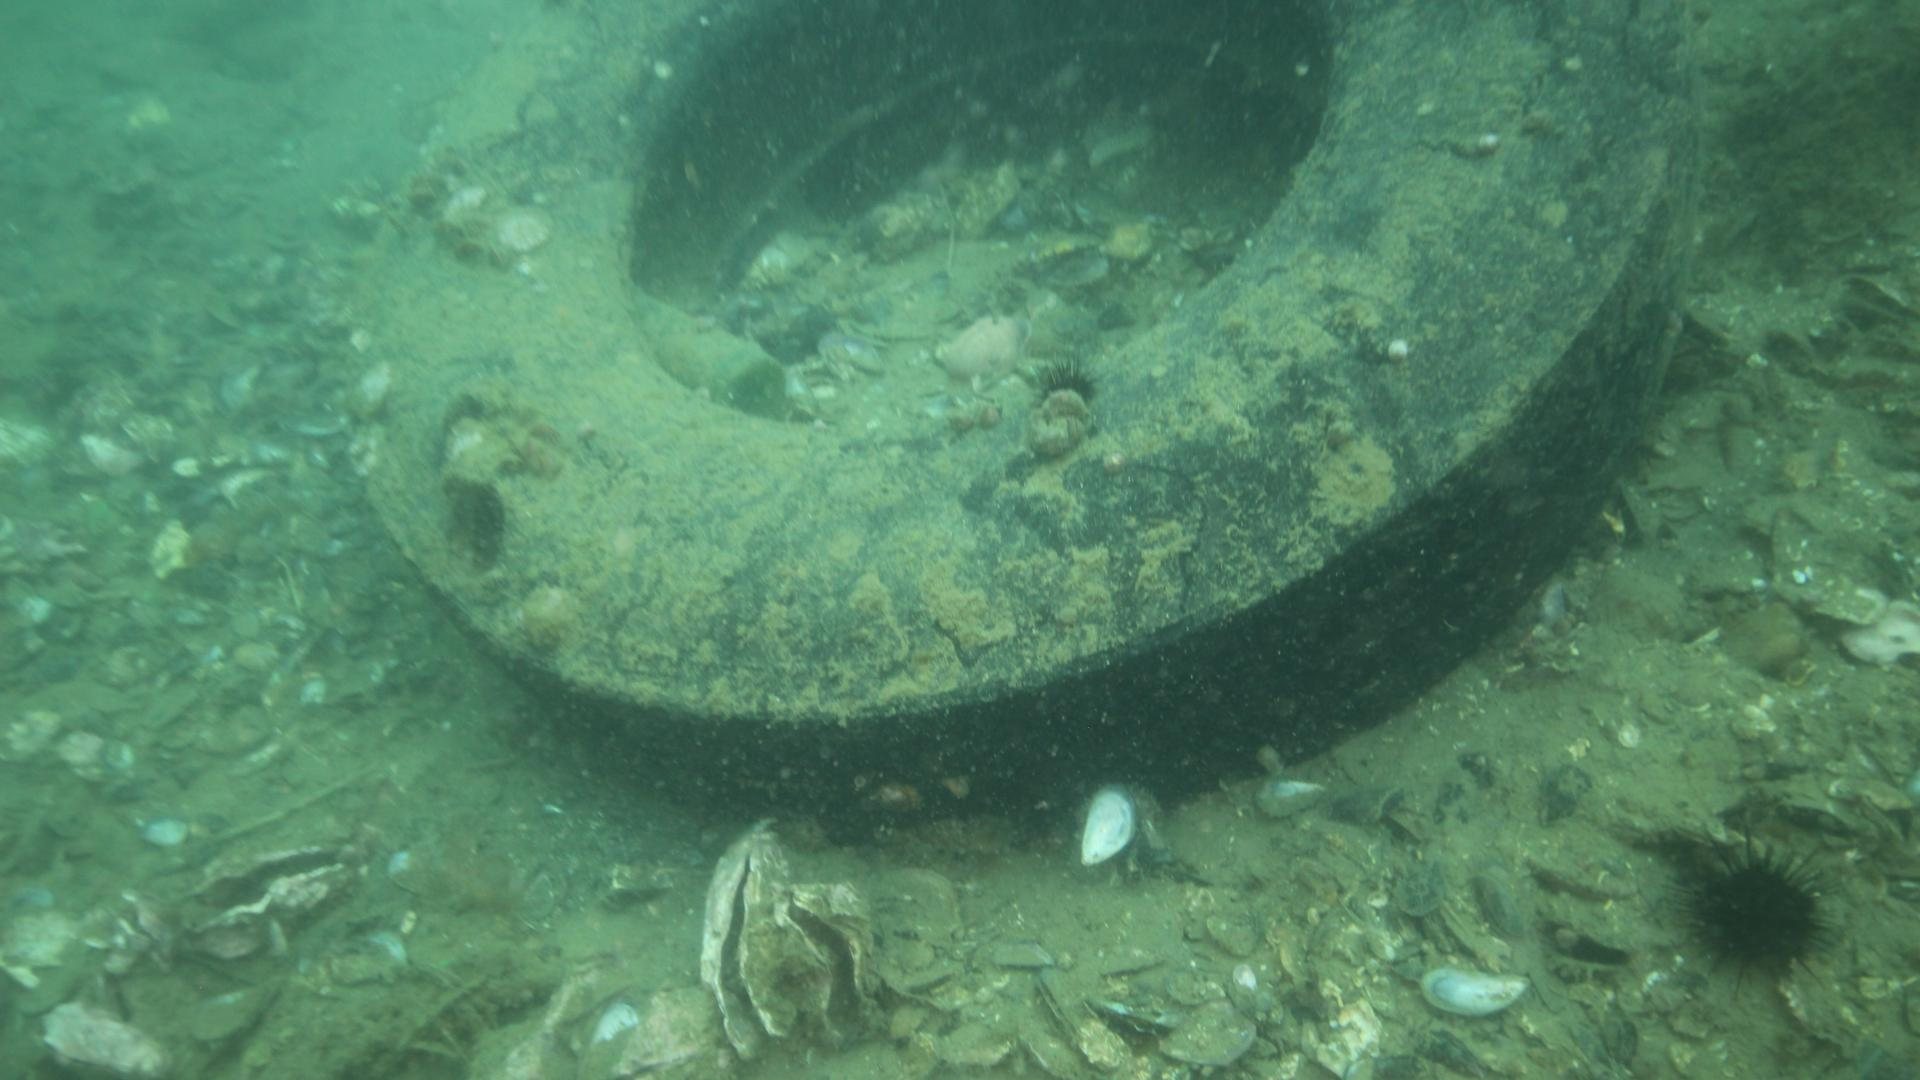tire: (344, 3, 1695, 839)
